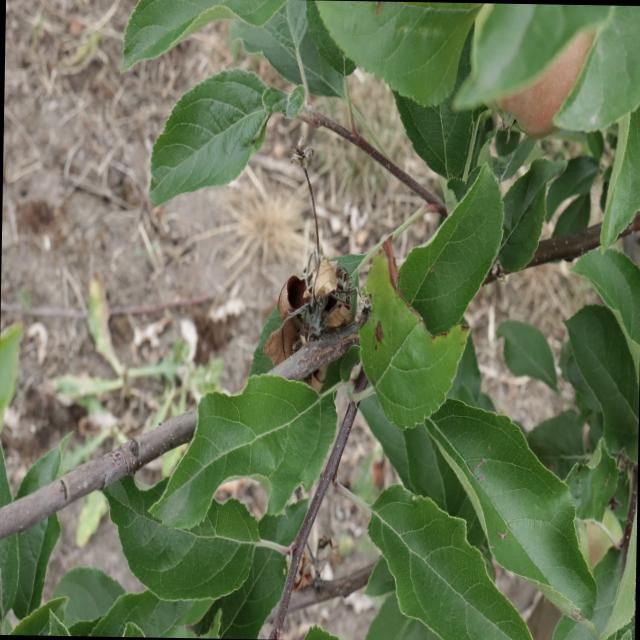-FireBlight-: (266, 262, 362, 356)
